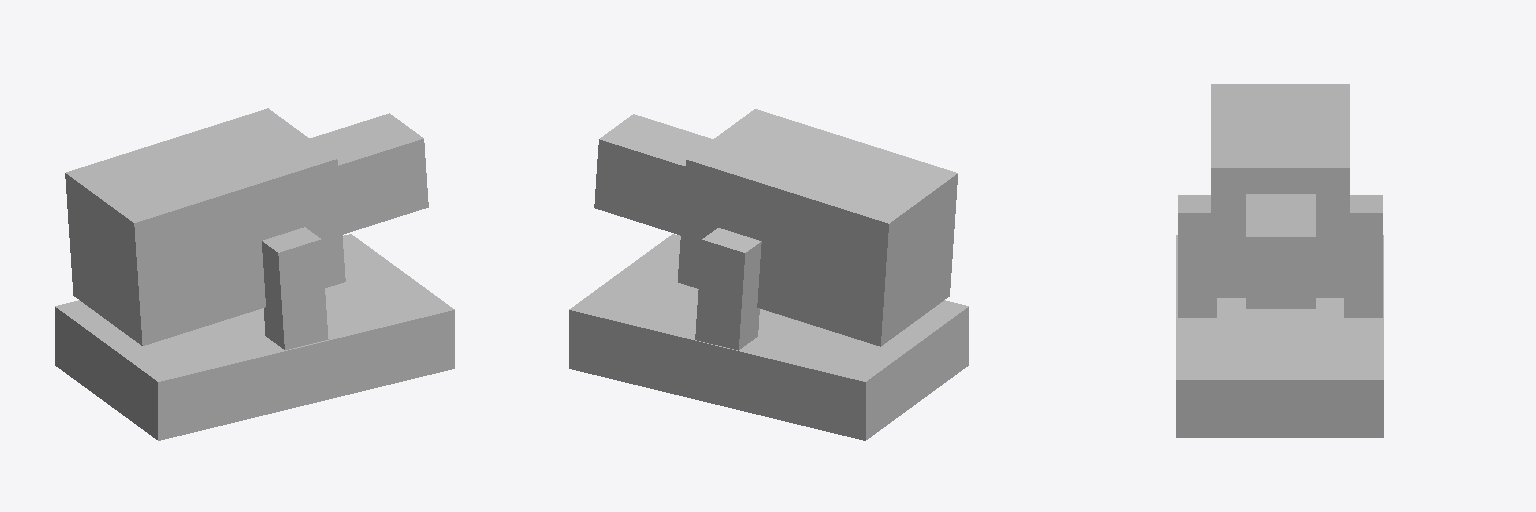
Rendered from cannon.obj.
The picture shows the model from 3 angles: view 1: azimuth 30°, elevation 25°; view 2: azimuth 150°, elevation 25°; view 3: azimuth 270°, elevation 25°; orthographic projection.
Parts seen in each view (by area): view 1: Cube, Cube.002, Cube.001, Cube.003; view 2: Cube, Cube.002, Cube.001, Cube.004; view 3: Cube.002, Cube, Cube.001, Cube.003, Cube.004.
Part boxes in pixels (bbox=[...]): Cube: bbox=[65, 108, 345, 345]; Cube.002: bbox=[55, 234, 454, 440]; Cube.001: bbox=[310, 113, 428, 234]; Cube.003: bbox=[262, 227, 328, 349]; Cube: bbox=[678, 109, 957, 346]; Cube.002: bbox=[569, 234, 968, 440]; Cube.001: bbox=[594, 114, 712, 235]; Cube.004: bbox=[695, 228, 761, 350]; Cube.002: bbox=[1176, 235, 1383, 437]; Cube: bbox=[1211, 84, 1349, 297]; Cube.001: bbox=[1246, 194, 1315, 308]; Cube.003: bbox=[1178, 195, 1216, 317]; Cube.004: bbox=[1344, 195, 1382, 317].
Size of the model in its own units: 5.21 by 3.53 by 3.